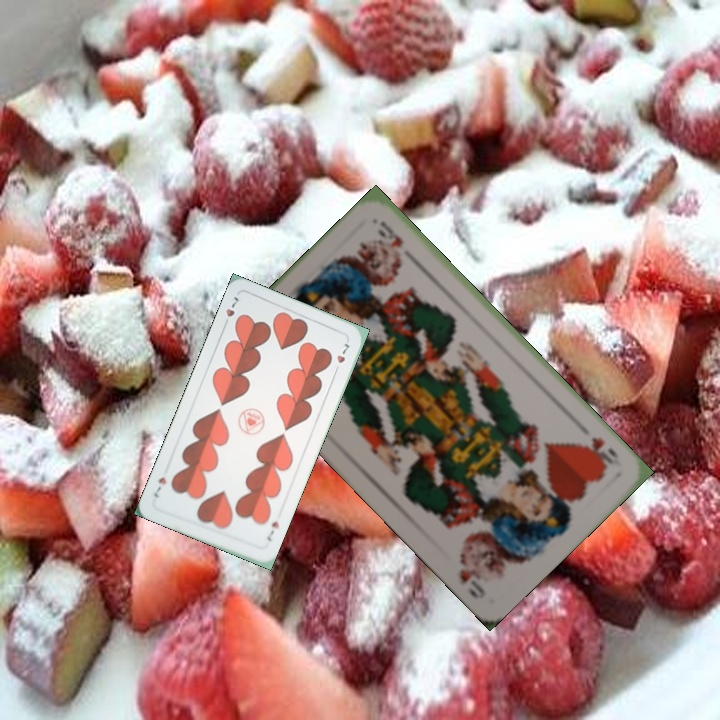H7: (219, 292, 242, 330), (263, 517, 282, 543)
HO: (581, 433, 622, 471)
